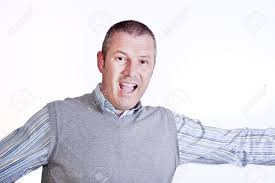white_male: (91, 22, 151, 112)
